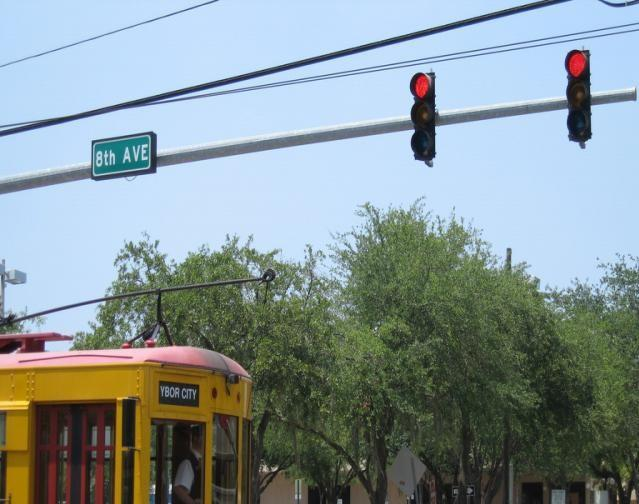red_light: (564, 48, 592, 140), (410, 71, 435, 159)
